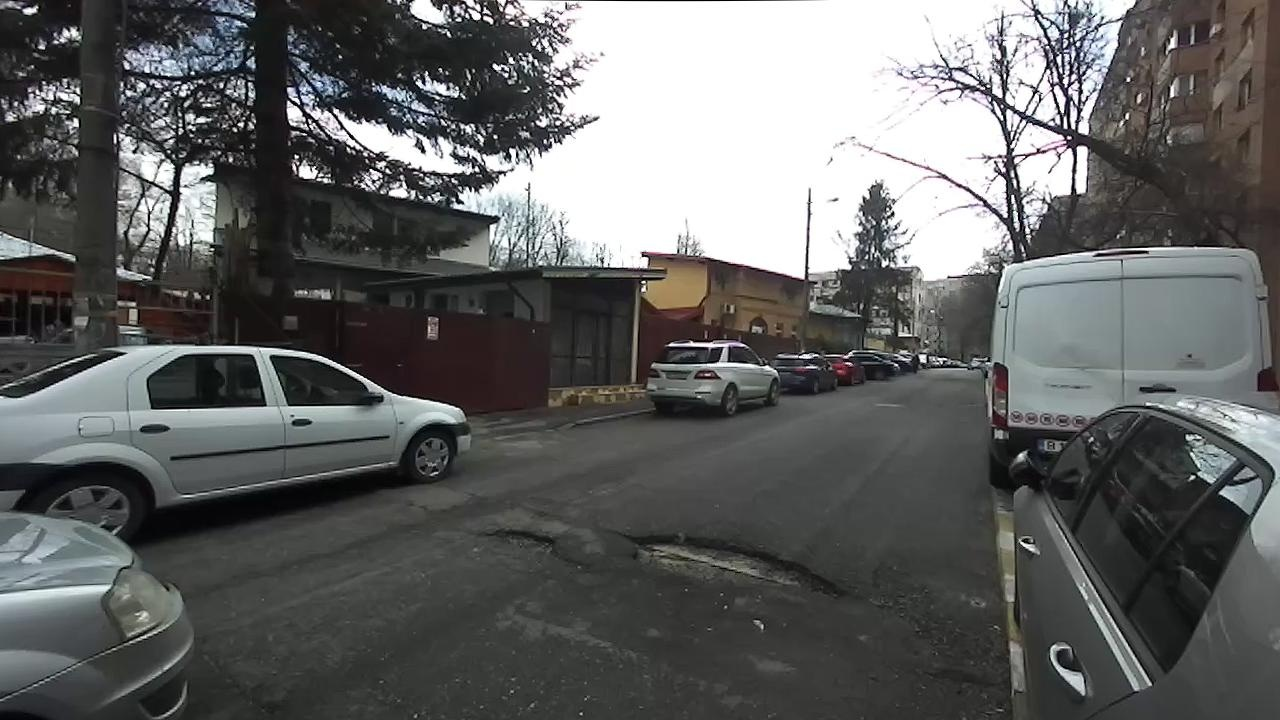pothole: (620, 528, 858, 605), (476, 523, 594, 574)
